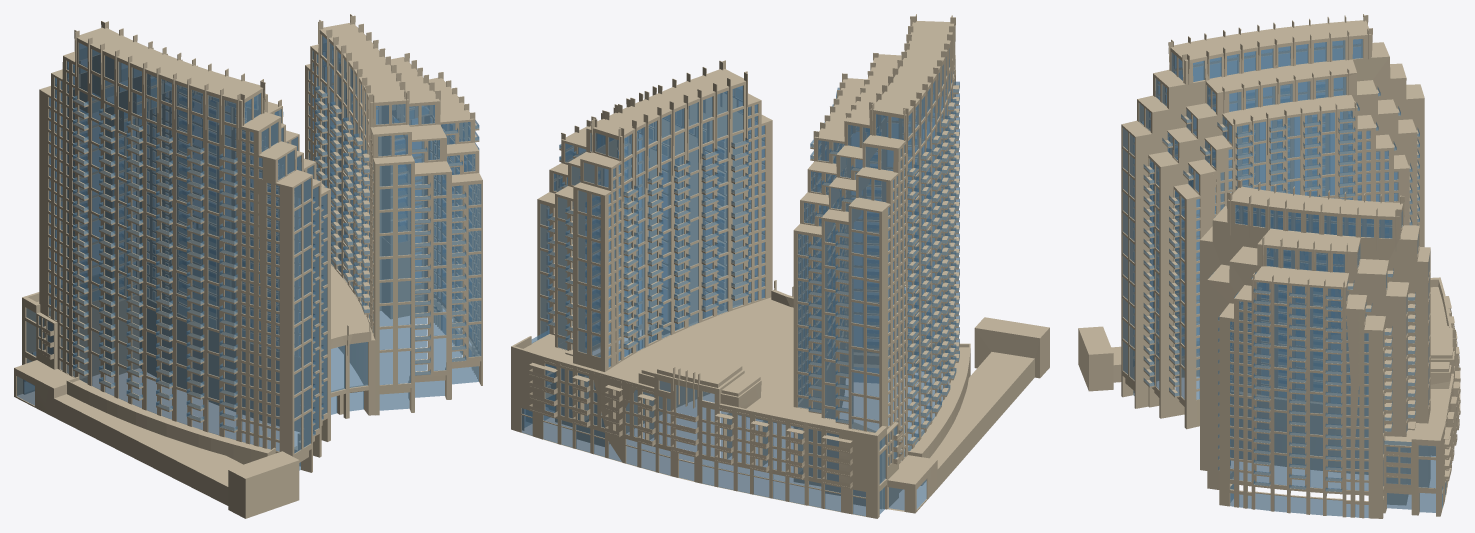
File: building_02.fbx
The picture shows the model from 3 angles, left to right: view 1: azimuth 30°, elevation 25°; view 2: azimuth 150°, elevation 25°; view 3: azimuth 270°, elevation 25°; orthographic projection. The views are drawn at different scales.
Visible parts, largest first — view 1: SP1, SP1_widowglass, SP2, SP2_widowglass, SPb, SP1_balcony_cover, SP2_balcony_cover, decorative_elements, SPb_windowglass; view 2: SP1, SP2, SPb, SP2_widowglass, SP1_widowglass, SPb_windowglass, SP1_balcony_cover, decorative_elements, SP2_balcony_cover, SPb_balcony_cover, SPb_column; view 3: SP2, SP1, SP2_widowglass, SP1_widowglass, SPb, SP2_balcony_cover, decorative_elements, SP1_balcony_cover, SPb_windowglass, SPb_balcony_cover, SPb_column.
Part boxes in pixels (box(x1,y1,x2,y2)): SP1: box(39, 27, 330, 472); SP1_widowglass: box(49, 43, 327, 453); SP2: box(305, 23, 482, 415); SP2_widowglass: box(308, 35, 481, 384); SPb: box(14, 234, 388, 518); SP1_balcony_cover: box(73, 96, 323, 435); SP2_balcony_cover: box(315, 86, 479, 375); decorative_elements: box(74, 14, 475, 355); SPb_windowglass: box(26, 308, 367, 414); SP1: box(793, 21, 970, 508); SP2: box(537, 69, 772, 446); SPb: box(511, 290, 1049, 518); SP2_widowglass: box(540, 85, 764, 367); SP1_widowglass: box(798, 49, 953, 456); SPb_windowglass: box(521, 364, 897, 516); SP1_balcony_cover: box(808, 81, 959, 444); decorative_elements: box(561, 14, 955, 408); SP2_balcony_cover: box(531, 138, 748, 348); SPb_balcony_cover: box(529, 368, 902, 487); SPb_column: box(529, 362, 852, 473); SP2: box(1200, 186, 1430, 518); SP1: box(1121, 20, 1424, 429); SP2_widowglass: box(1230, 205, 1429, 517); SP1_widowglass: box(1123, 39, 1398, 399); SPb: box(1078, 277, 1460, 516); SP2_balcony_cover: box(1209, 269, 1415, 491); decorative_elements: box(1168, 14, 1455, 370); SP1_balcony_cover: box(1143, 87, 1419, 396); SPb_windowglass: box(1386, 445, 1450, 512); SPb_balcony_cover: box(1384, 308, 1460, 487); SPb_column: box(1398, 296, 1459, 484).
Size of the model in its own units: 106047 by 97196 by 96641.
